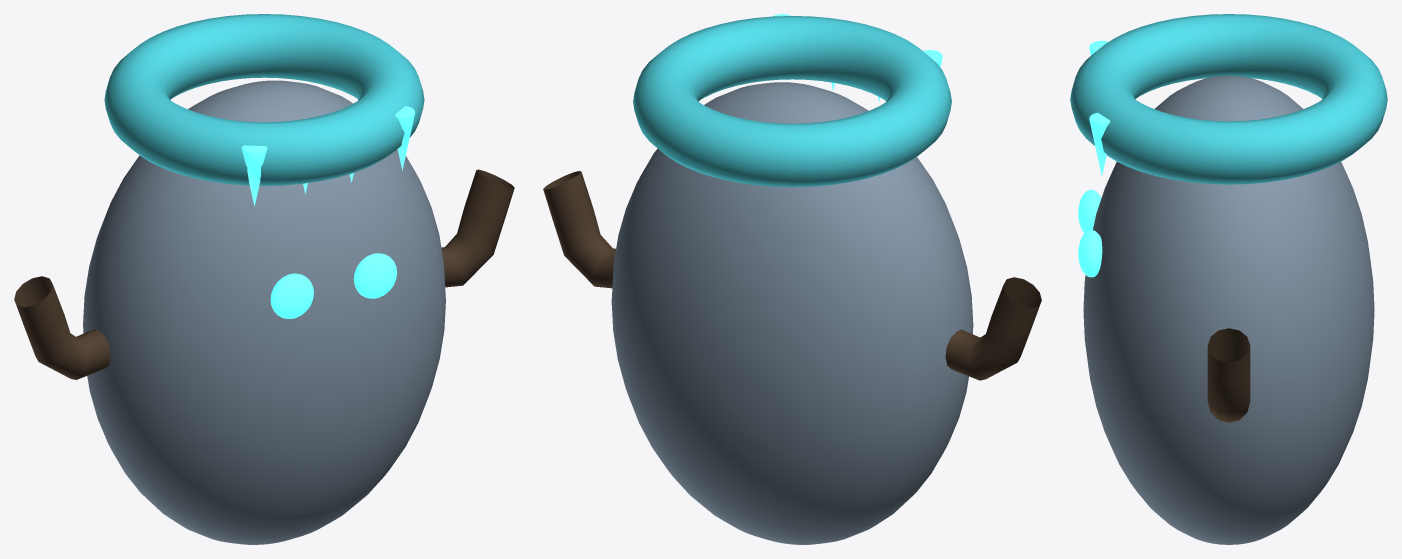
Rendered from mimic_v3.glb.
The picture shows the model from 3 angles, left to right: view 1: azimuth 30°, elevation 25°; view 2: azimuth 150°, elevation 25°; view 3: azimuth 270°, elevation 25°; orthographic projection.
Parts seen in each view (by area): view 1: URN_BODY_PRIMARY, URN_RIM_ACCENT, URN_ARM_SECONDARY, URN_ARM_SECONDARY.001, EYE_EMISSIVE, EYE_EMISSIVE.001, URN_TOOTH_EMISSIVE, URN_TOOTH_EMISSIVE.003; view 2: URN_BODY_PRIMARY, URN_RIM_ACCENT, URN_ARM_SECONDARY, URN_ARM_SECONDARY.001; view 3: URN_BODY_PRIMARY, URN_RIM_ACCENT, URN_ARM_SECONDARY.001, EYE_EMISSIVE.001, EYE_EMISSIVE, URN_TOOTH_EMISSIVE.003.
Part boxes in pixels (box(x1,y1,x2,y2)): URN_BODY_PRIMARY: box(83, 80, 445, 544); URN_RIM_ACCENT: box(104, 14, 424, 185); URN_ARM_SECONDARY: box(14, 276, 110, 379); URN_ARM_SECONDARY.001: box(441, 169, 514, 287); EYE_EMISSIVE: box(270, 273, 313, 318); EYE_EMISSIVE.001: box(353, 253, 397, 298); URN_TOOTH_EMISSIVE: box(241, 145, 267, 206); URN_TOOTH_EMISSIVE.003: box(395, 106, 415, 170); URN_BODY_PRIMARY: box(611, 82, 973, 544); URN_RIM_ACCENT: box(633, 16, 951, 187); URN_ARM_SECONDARY: box(945, 277, 1041, 380); URN_ARM_SECONDARY.001: box(543, 171, 615, 288); URN_BODY_PRIMARY: box(1083, 75, 1374, 544); URN_RIM_ACCENT: box(1070, 14, 1387, 184); URN_ARM_SECONDARY.001: box(1207, 328, 1250, 422); EYE_EMISSIVE.001: box(1078, 230, 1102, 277); EYE_EMISSIVE: box(1078, 189, 1101, 233); URN_TOOTH_EMISSIVE.003: box(1089, 112, 1110, 175).
Size of the model in its own units: 2.14 by 1.92 by 1.2.
